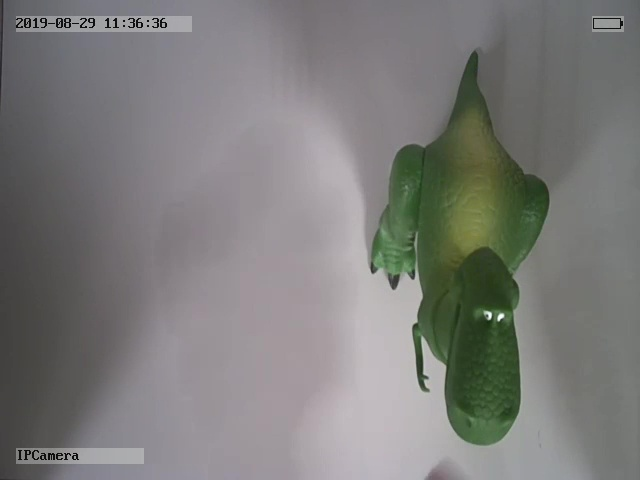rex: (369, 49, 551, 449)
